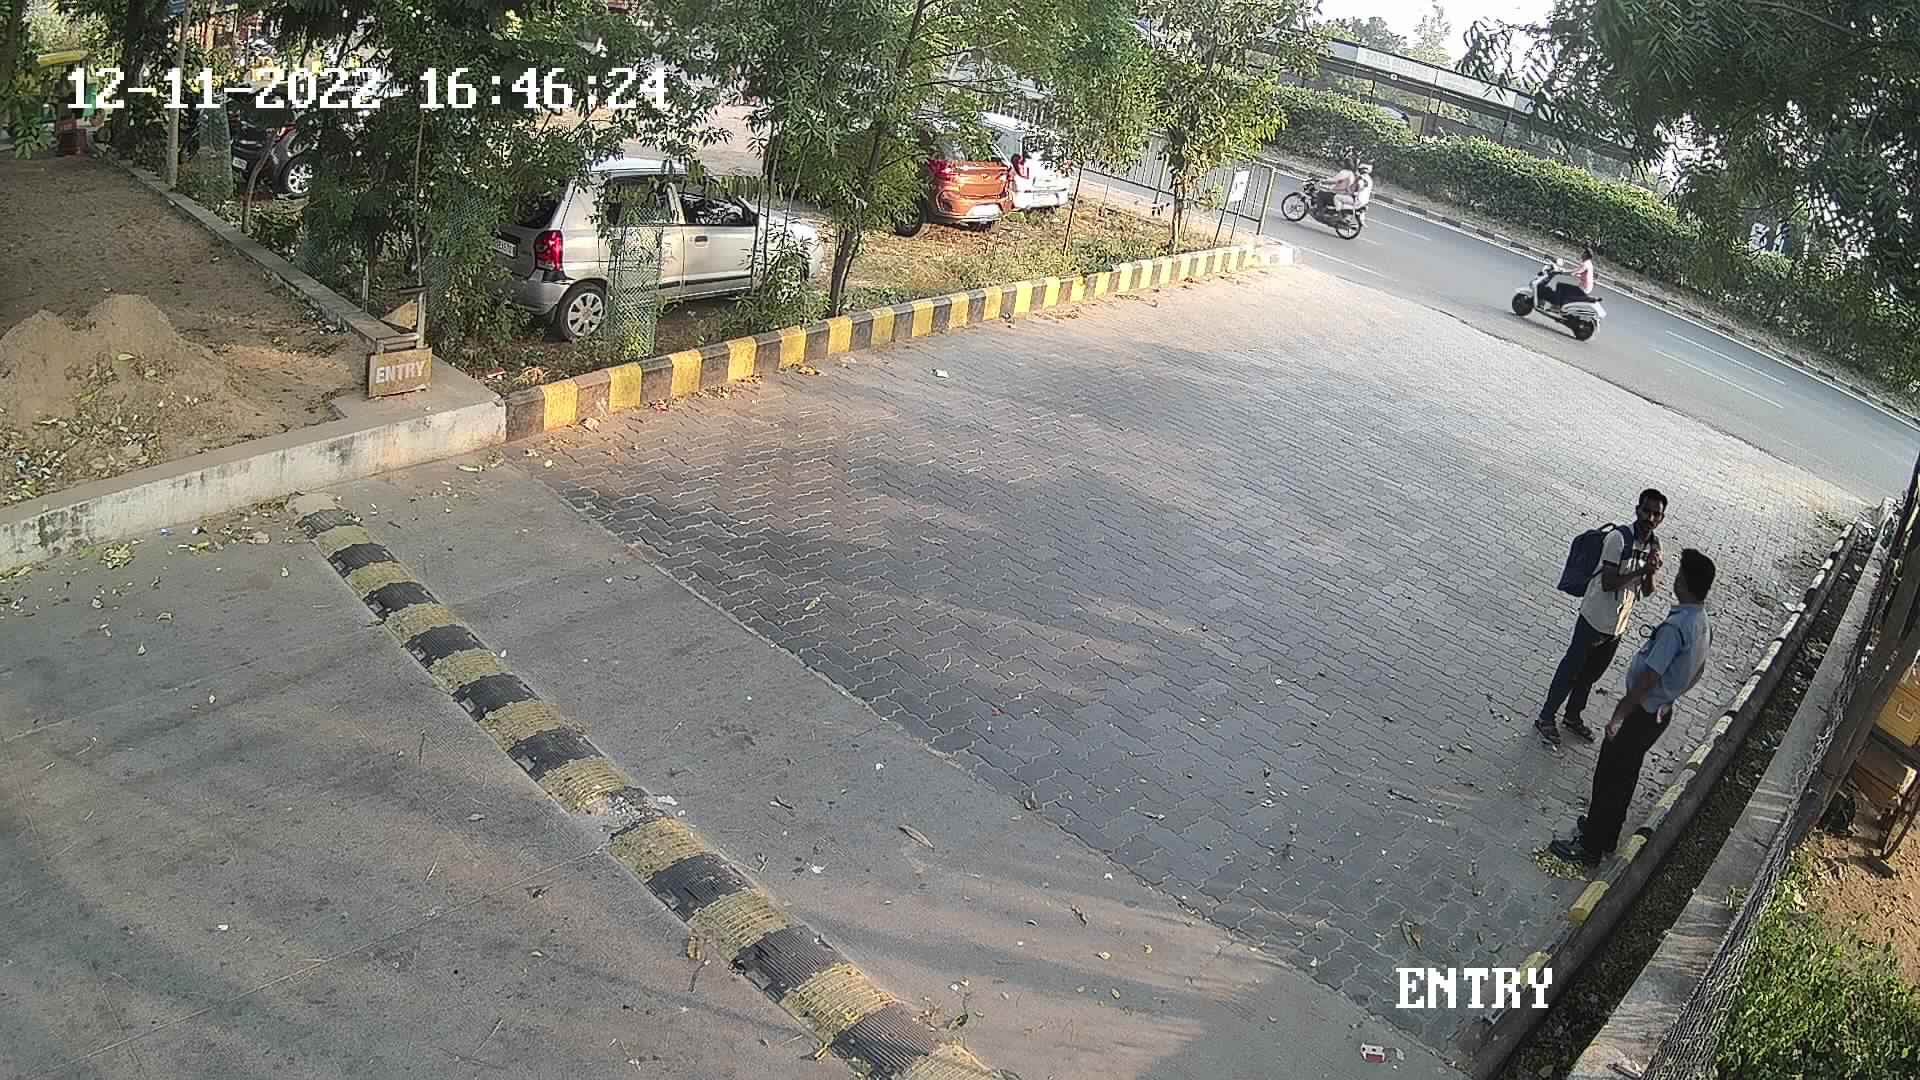Bike: (1503, 248, 1618, 352), (1275, 146, 1375, 251)
Car: (477, 144, 831, 347), (878, 98, 1021, 245), (971, 99, 1083, 222)
